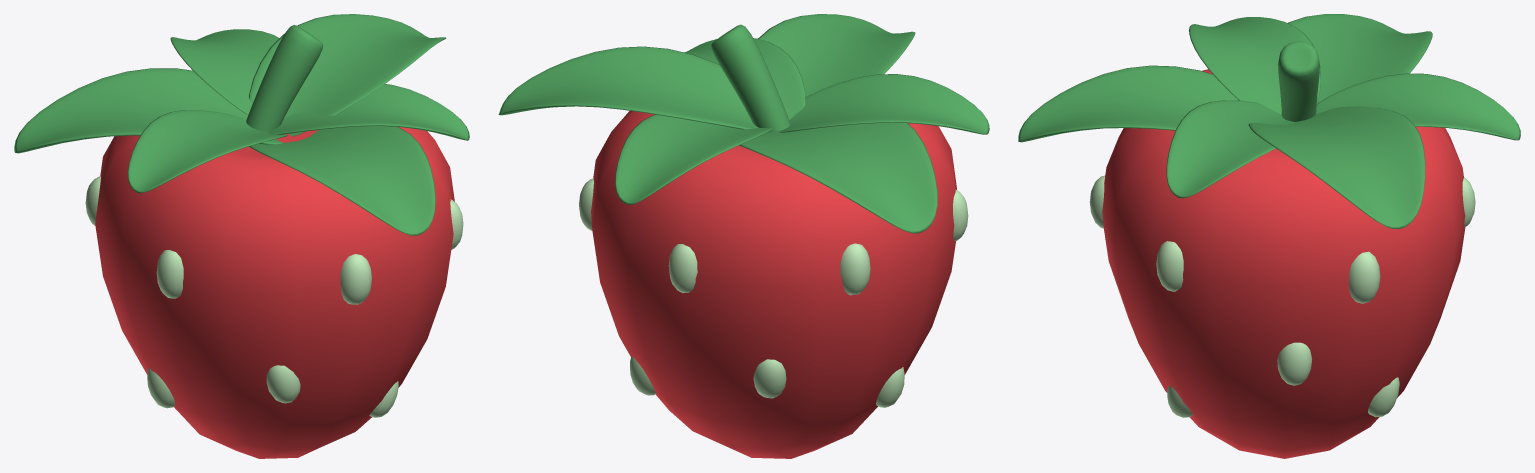
3 views of the same model, side by side, from view 1: azimuth 30°, elevation 25°; view 2: azimuth 150°, elevation 25°; view 3: azimuth 270°, elevation 25° (orthographic). The views are drawn at different scales.
Parts seen in each view (by area): view 1: Body, Leaf, Leaf.002, Leaf.001, Leaf.003, Leaf.004, Leaf.005, Plane, Seed, Seed.005, Seed.008, Seed.006 (+2 smaller); view 2: Body, Leaf.001, Leaf.002, Leaf.003, Leaf, Leaf.005, Plane, Leaf.004, Seed.004, Seed.003, Seed.007, Seed.006 (+3 smaller); view 3: Body, Leaf.001, Leaf, Leaf.004, Leaf.005, Leaf.002, Leaf.003, Plane, Seed.002, Seed.010, Seed.001, Seed.011 (+1 smaller).
Boxes of the visible parts, box(x1,y1,x2,y2) form: Body: box(95, 127, 454, 458); Leaf: box(249, 126, 435, 235); Leaf.002: box(14, 68, 283, 153); Leaf.001: box(249, 14, 445, 136); Leaf.003: box(128, 110, 287, 193); Leaf.004: box(267, 84, 469, 140); Leaf.005: box(170, 29, 279, 114); Plane: box(246, 25, 323, 132); Seed: box(340, 254, 371, 304); Seed.005: box(156, 250, 183, 298); Seed.008: box(266, 365, 300, 403); Seed.006: box(147, 368, 175, 408); Body: box(591, 111, 956, 458); Leaf.001: box(498, 46, 758, 129); Leaf.002: box(739, 122, 937, 233); Leaf.003: box(778, 74, 989, 134); Leaf: box(758, 14, 915, 96); Leaf.005: box(615, 114, 773, 204); Plane: box(711, 24, 790, 132); Leaf.004: box(684, 38, 805, 119); Seed.004: box(840, 243, 870, 295); Seed.003: box(668, 244, 697, 292); Seed.007: box(753, 359, 786, 398); Seed.006: box(876, 367, 904, 407); Body: box(1102, 69, 1465, 458); Leaf.001: box(1248, 106, 1425, 228); Leaf: box(1018, 65, 1238, 142); Leaf.004: box(1166, 100, 1294, 198); Leaf.005: box(1316, 73, 1520, 140); Leaf.002: box(1287, 14, 1432, 103); Leaf.003: box(1189, 17, 1320, 114); Plane: box(1278, 41, 1319, 121); Seed.002: box(1349, 251, 1380, 303); Seed.010: box(1277, 342, 1311, 385); Seed.001: box(1156, 241, 1183, 291); Seed.011: box(1368, 377, 1399, 417).
Size of the model in its own units: 4.52 by 4.2 by 4.55.
